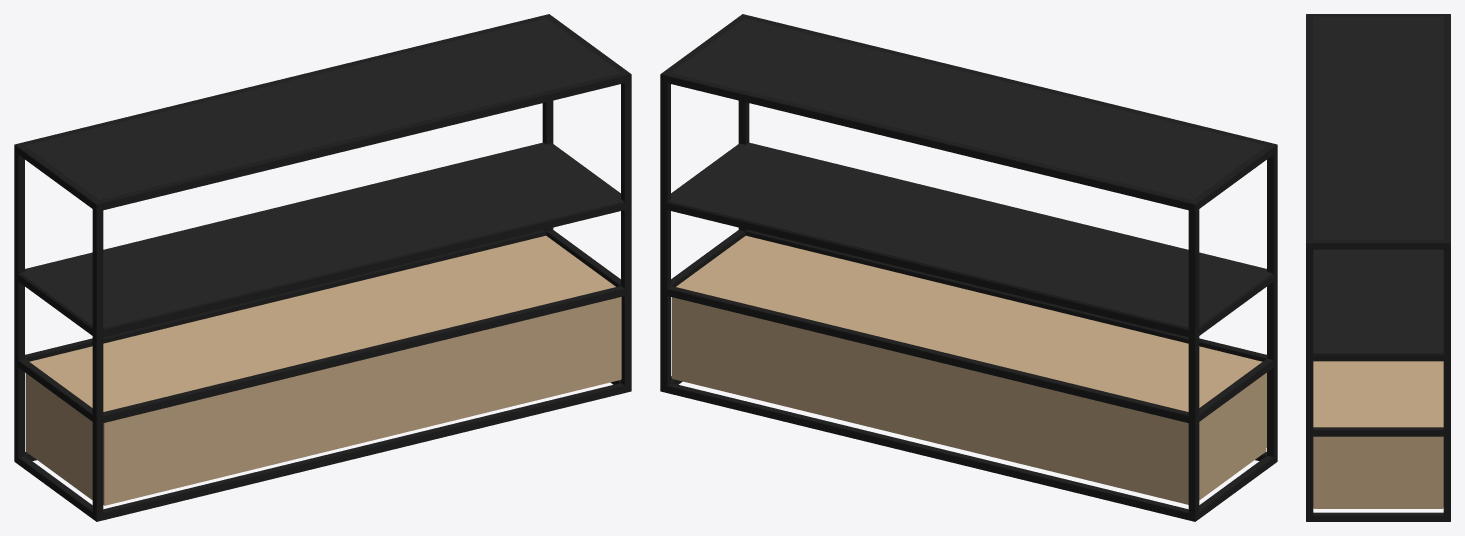
3 renders of one model, left to right at view 1: azimuth 30°, elevation 25°; view 2: azimuth 150°, elevation 25°; view 3: azimuth 270°, elevation 25°, orthographic. The views are drawn at different scales.
Visible parts, largest first — view 1: recta-w-series-ct-62012-console-table-rak-cabinet-industrial; view 2: recta-w-series-ct-62012-console-table-rak-cabinet-industrial; view 3: recta-w-series-ct-62012-console-table-rak-cabinet-industrial.
Part boxes in pixels (left/top/right/bottom): recta-w-series-ct-62012-console-table-rak-cabinet-industrial: left=14, top=14, right=631, bottom=521; recta-w-series-ct-62012-console-table-rak-cabinet-industrial: left=660, top=14, right=1277, bottom=521; recta-w-series-ct-62012-console-table-rak-cabinet-industrial: left=1306, top=14, right=1450, bottom=521.
Size of the model in its own units: 1.5 by 0.85 by 0.4.
